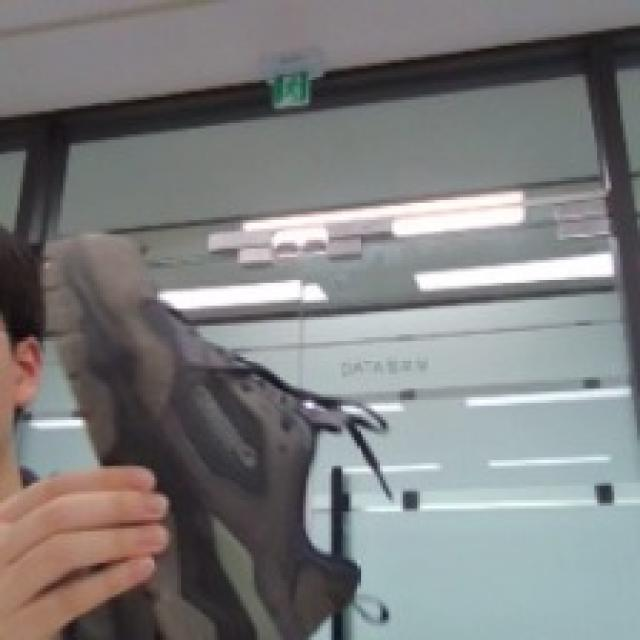shoe: (32, 233, 421, 640)
